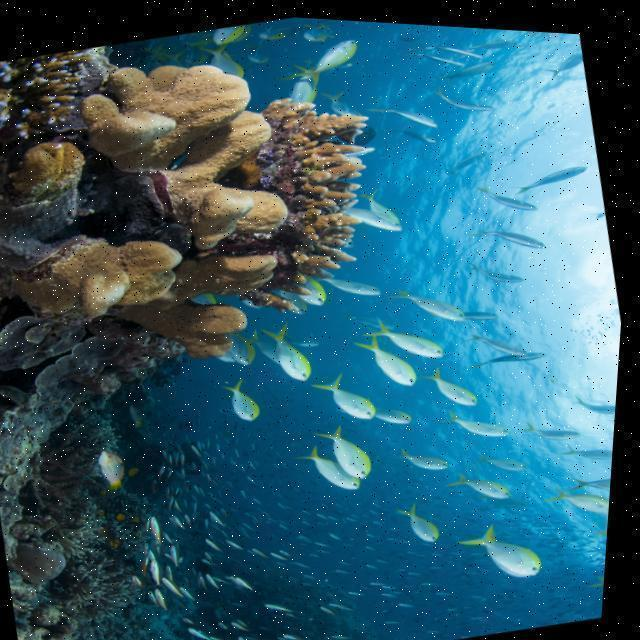Healthy Coral: (139, 144, 316, 377), (70, 33, 294, 190), (280, 86, 403, 272), (26, 219, 195, 336), (0, 43, 100, 152)
